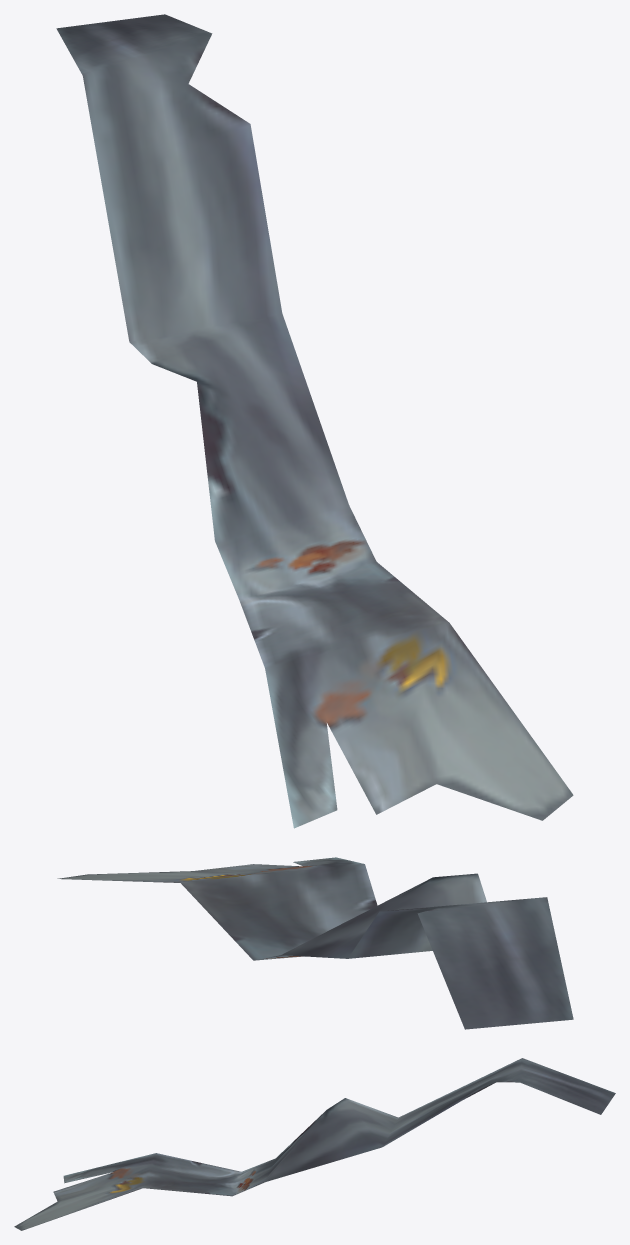
3 views of the same model, one above another, from view 1: azimuth 30°, elevation 25°; view 2: azimuth 210°, elevation 25°; view 3: azimuth 270°, elevation 25° (orthographic). The views are drawn at different scales.
Parts seen in each view (by area): view 1: 52090_02; view 2: 52090_02; view 3: 52090_02.
Boxes of the visible parts, x1,y1,x2,y2 form: 52090_02: (56,14,573,828); 52090_02: (57,857,573,1029); 52090_02: (14,1058,615,1230).
Bounding box in the file's own units: 138 × 121 × 351.
